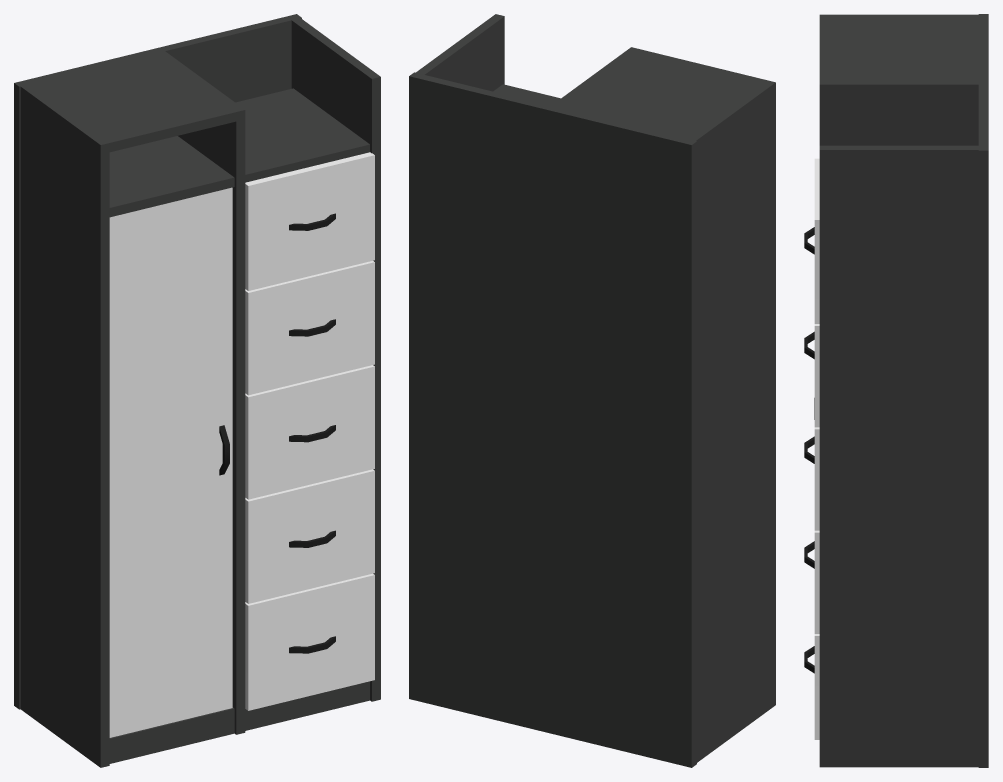
File: SM_closet_001.FBX
3 views of the same model, side by side, from view 1: azimuth 30°, elevation 25°; view 2: azimuth 150°, elevation 25°; view 3: azimuth 270°, elevation 25° (orthographic).
Parts seen in each view (by area): view 1: SM_closet_001; view 2: SM_closet_001; view 3: SM_closet_001.
Boxes of the visible parts, x1=… form: SM_closet_001: x1=14, y1=14, x2=380, y2=767; SM_closet_001: x1=409, y1=14, x2=775, y2=767; SM_closet_001: x1=804, y1=14, x2=988, y2=767.
Bounding box in the file's own units: 128 × 72.89 × 269.
